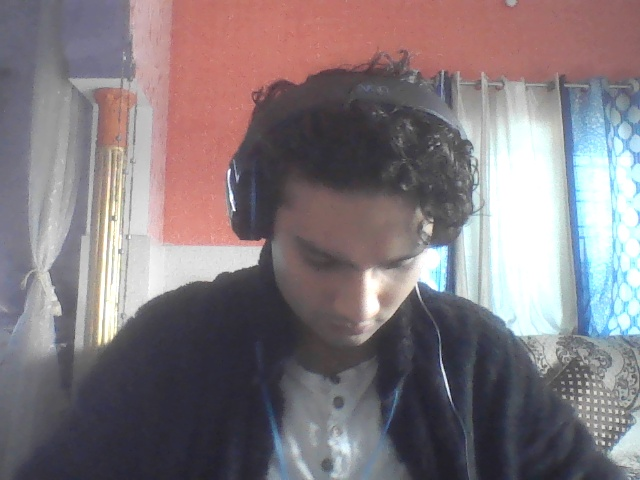real: (245, 110, 429, 371)
